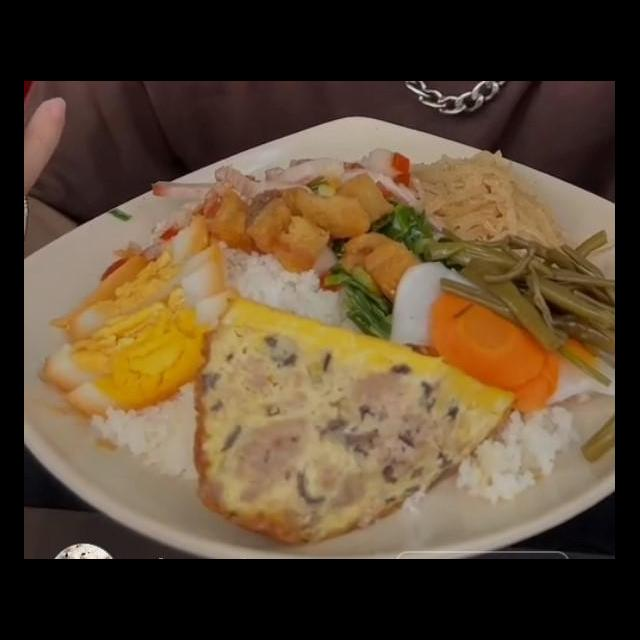bi: (402, 144, 570, 264)
cha: (188, 291, 524, 552)
com: (220, 241, 378, 344), (452, 397, 586, 508), (82, 373, 212, 485)
com suon bi cha trung: (25, 143, 615, 559)
dua chua: (386, 226, 616, 418)
suon: (148, 146, 422, 247)
trung: (38, 209, 244, 423)
